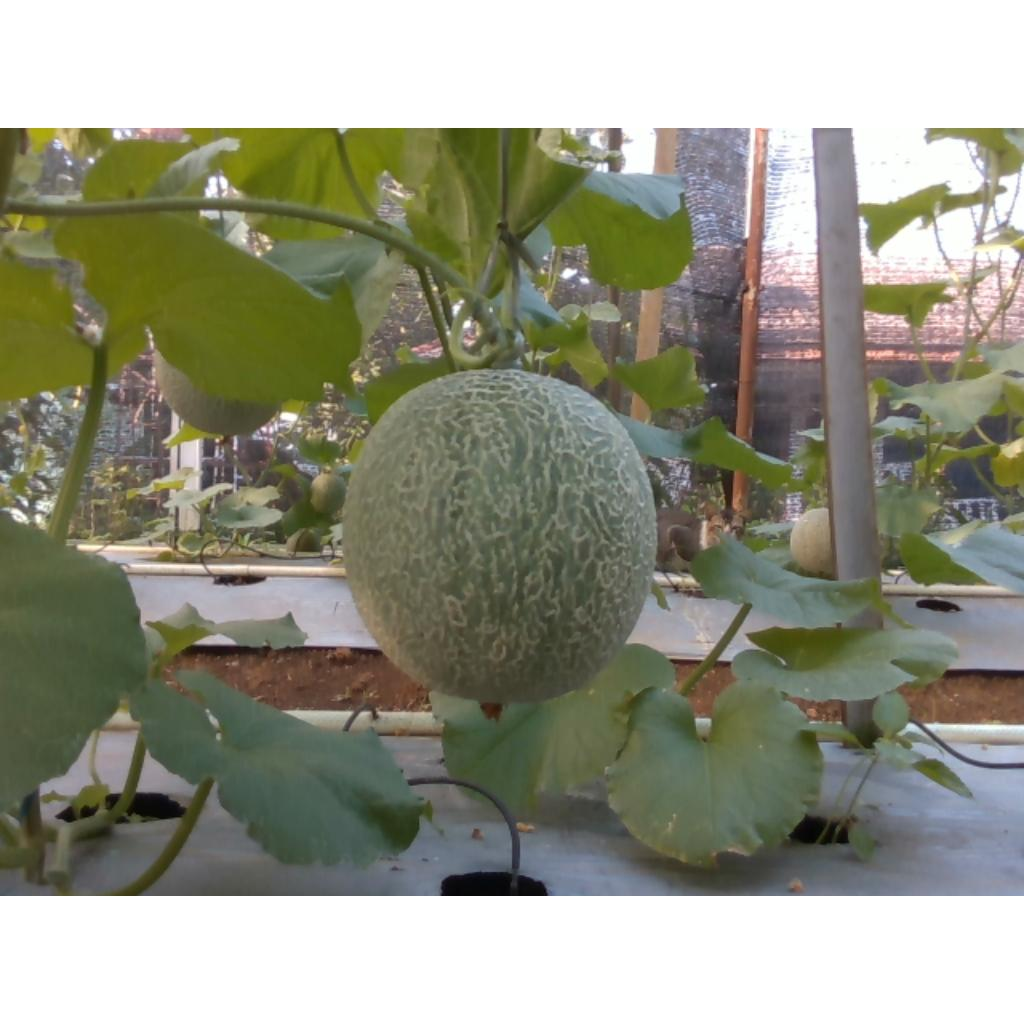melon: (346, 371, 658, 703)
